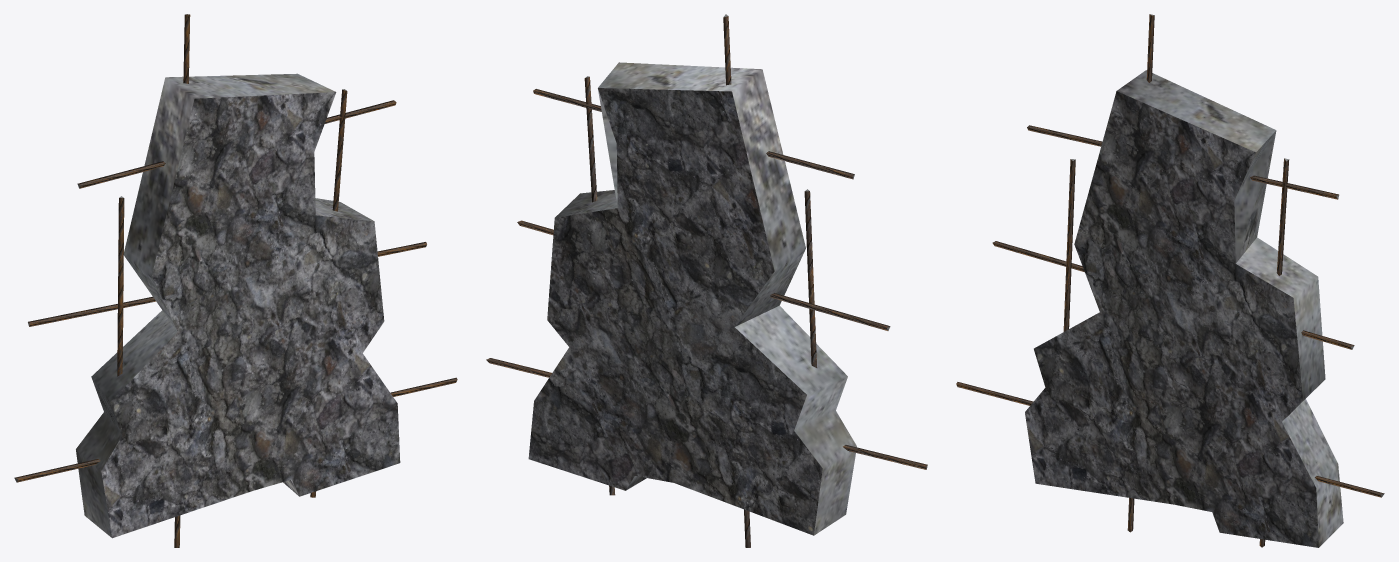
The model's file is Broken_2.fbx.
The picture shows the model from 3 angles, left to right: view 1: azimuth 30°, elevation 25°; view 2: azimuth 150°, elevation 25°; view 3: azimuth 330°, elevation 25°; orthographic projection. The views are drawn at different scales.
Parts seen in each view (by area): view 1: polySurface1359; view 2: polySurface1359; view 3: polySurface1359.
Part boxes in pixels (<box>): polySurface1359: <box>14,14,457,547</box>; polySurface1359: <box>486,14,927,547</box>; polySurface1359: <box>956,14,1384,547</box>.
Bounding box in the file's own units: 3.06 × 3.5 × 0.3599.
Materials: 1 (1 with a texture image).
